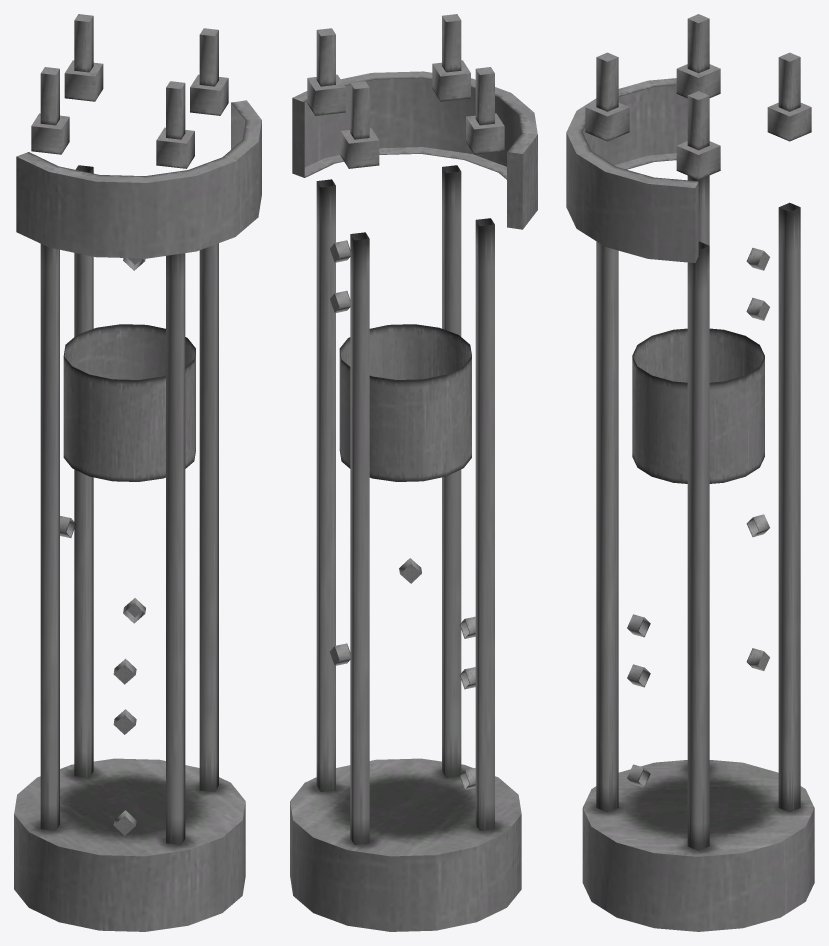
File: ship_component_weapon_s01_l1.fbx
3 renders of one model, left to right at view 1: azimuth 30°, elevation 25°; view 2: azimuth 150°, elevation 25°; view 3: azimuth 270°, elevation 25°, orthographic.
Visible parts, largest first — view 1: mesh_node; view 2: mesh_node; view 3: mesh_node.
Part boxes in pixels (box(x1,y1,x2,y2)): mesh_node: box(14, 14, 261, 931); mesh_node: box(290, 14, 537, 931); mesh_node: box(566, 14, 814, 931).
Size of the model in its own units: 0.4788 by 1.65 by 0.4494.
